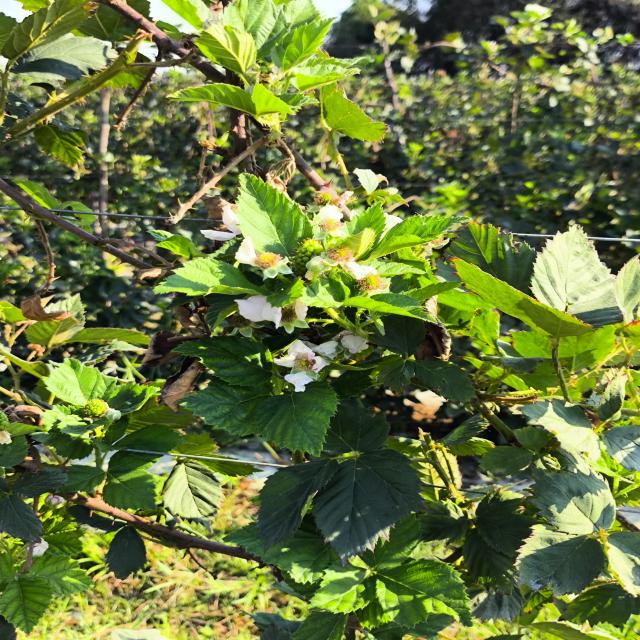flor: (274, 340, 330, 391), (235, 295, 272, 322), (341, 332, 367, 353)
verde: (291, 238, 324, 275)
